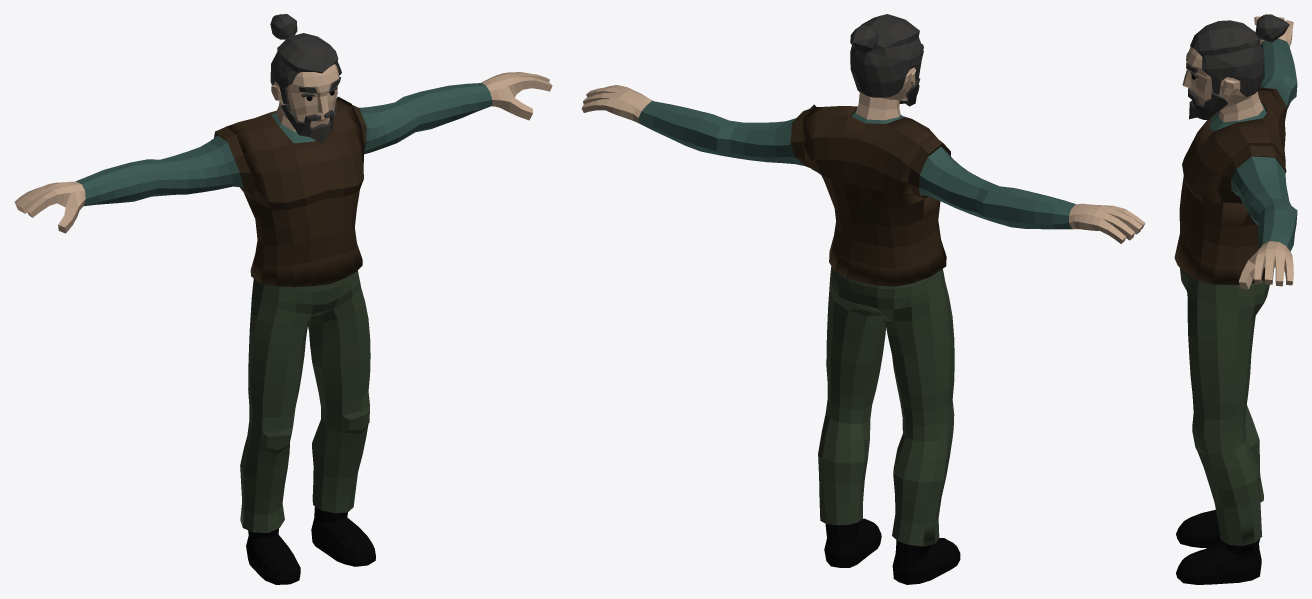
Rendered from hunter.fbx.
3 views of the same model, side by side, from view 1: azimuth 30°, elevation 25°; view 2: azimuth 150°, elevation 25°; view 3: azimuth 270°, elevation 25° (orthographic). The views are drawn at different scales.
Visible parts, largest first — view 1: Body_Legs, Body_Chest, Body_Arms, Body_Feet, Body_Hands, Hair7, Body_Head, Beard6; view 2: Body_Legs, Body_Chest, Body_Arms, Hair7, Body_Hands, Body_Feet, Body_Neck; view 3: Body_Legs, Body_Chest, Body_Arms, Hair7, Body_Feet, Body_Hands, Body_Head, Body_Neck, Beard6.
Part boxes in pixels (x1,y1,x2,y2): Body_Legs: (240, 270, 370, 539); Body_Chest: (227, 99, 363, 286); Body_Arms: (75, 83, 492, 206); Body_Feet: (246, 517, 375, 584); Body_Hands: (14, 72, 552, 233); Hair7: (270, 14, 341, 104); Body_Head: (271, 64, 338, 127); Beard6: (280, 92, 337, 143); Body_Legs: (818, 266, 954, 560); Body_Chest: (802, 106, 946, 286); Body_Arms: (638, 101, 1075, 229); Hair7: (850, 14, 923, 97); Body_Hands: (581, 85, 1145, 243); Body_Feet: (824, 518, 960, 584); Body_Neck: (851, 93, 905, 123); Body_Legs: (1180, 268, 1269, 556); Body_Chest: (1174, 89, 1285, 284); Body_Arms: (1216, 38, 1297, 251); Hair7: (1190, 14, 1289, 96); Body_Feet: (1176, 509, 1261, 584); Body_Hands: (1238, 14, 1293, 289); Body_Head: (1182, 47, 1251, 108); Body_Neck: (1209, 91, 1266, 131); Beard6: (1189, 93, 1227, 119).
Bounding box in the file's own units: 201 × 192 × 39.45.
Materials: 6 (6 with a texture image).
